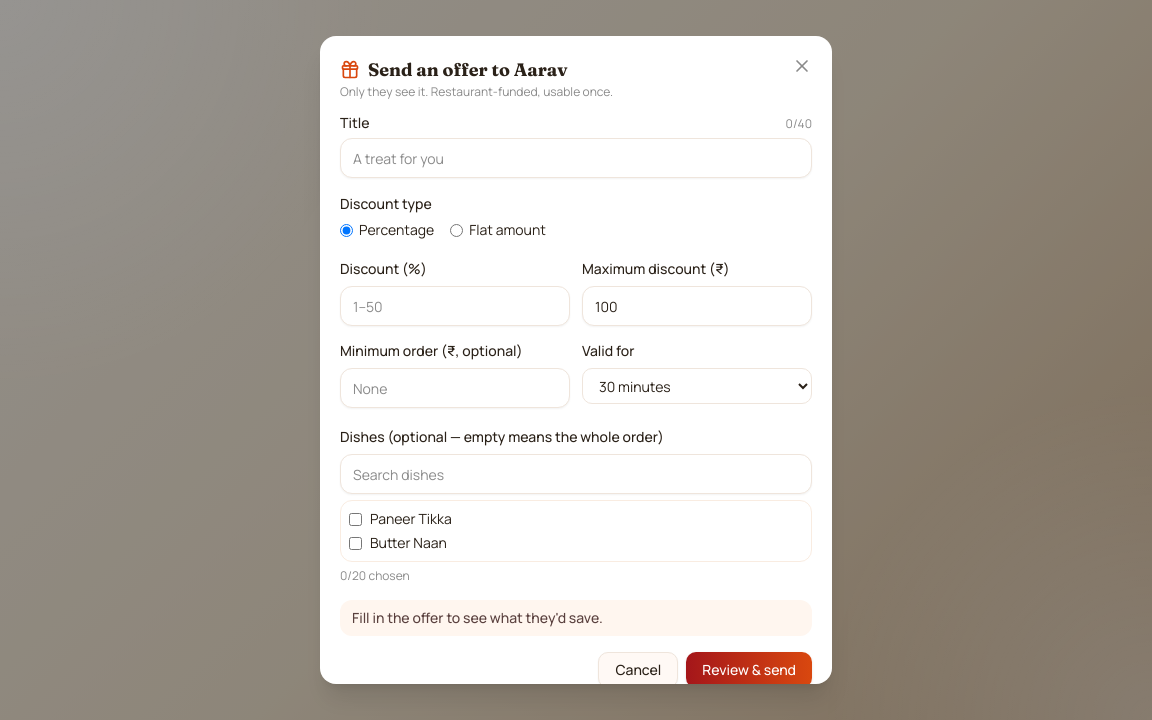
Test: preview › is debounced 400 ms, sent with the form values, and shows the server's figure
Type "A treat" into the field labelled "Title" at (576, 158), box [340,138,812,178]
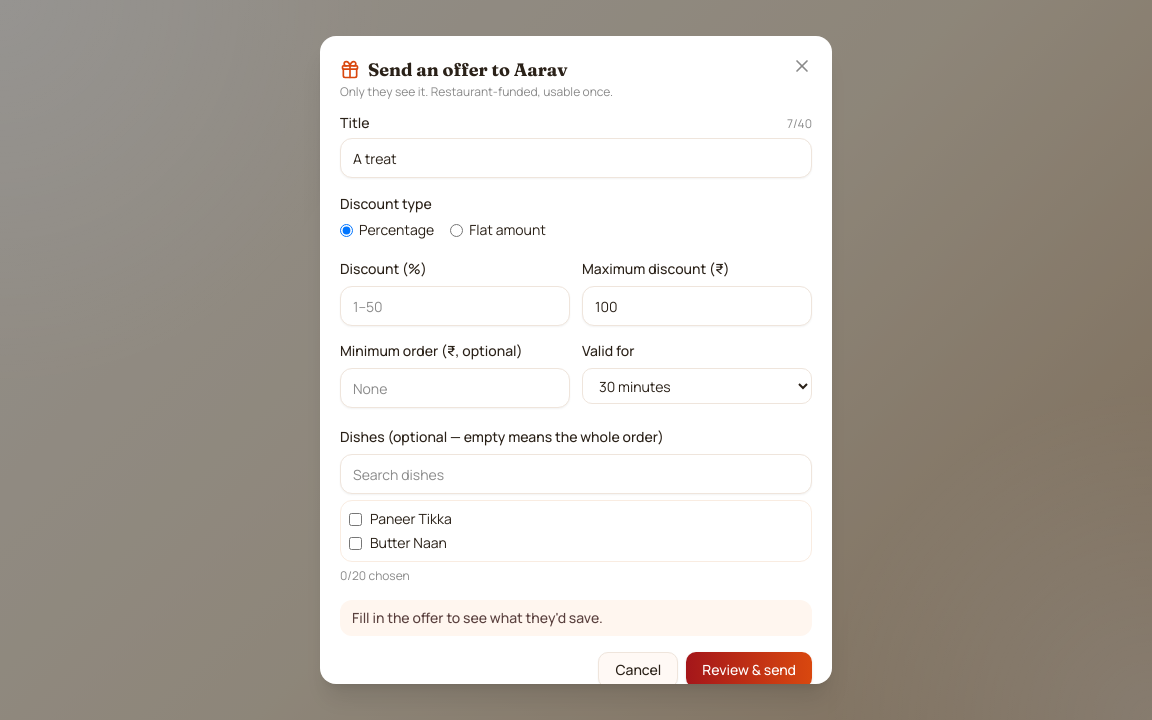
Type "15" into the field labelled "Discount (%)" at (455, 306), box [340,286,570,326]
Wait 400 ms
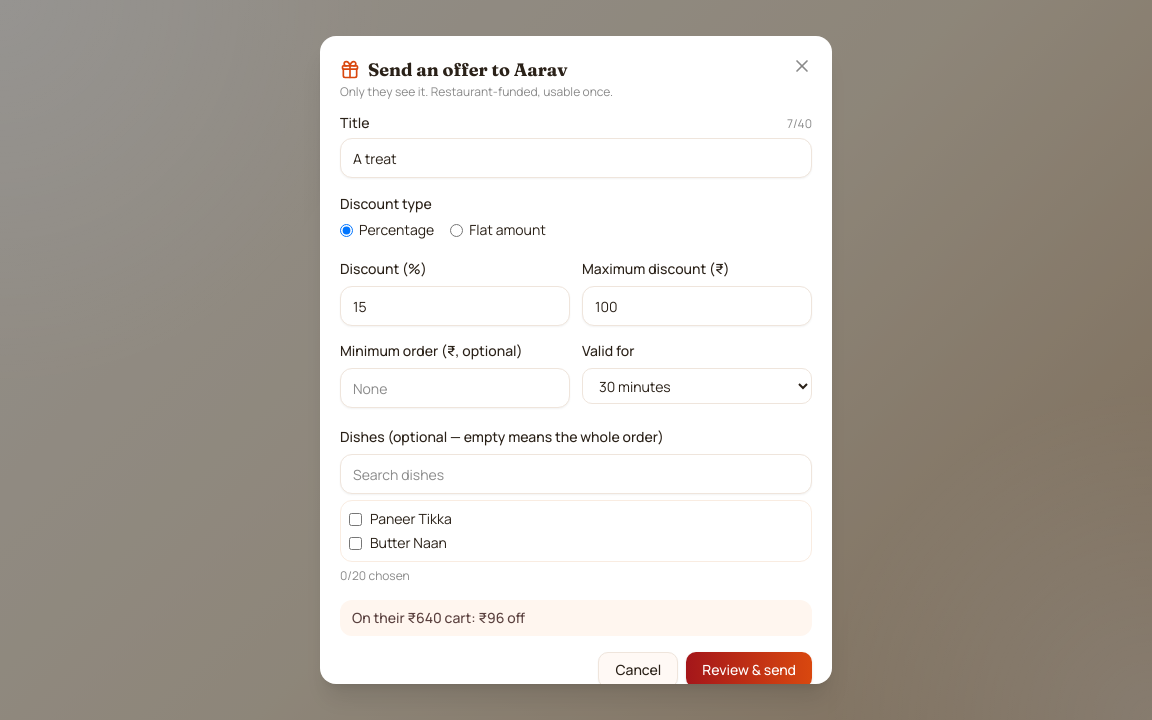
Now the text with test id "offer-preview" reads "On their ₹640 cart: ₹96 off", box [352,608,525,627]
